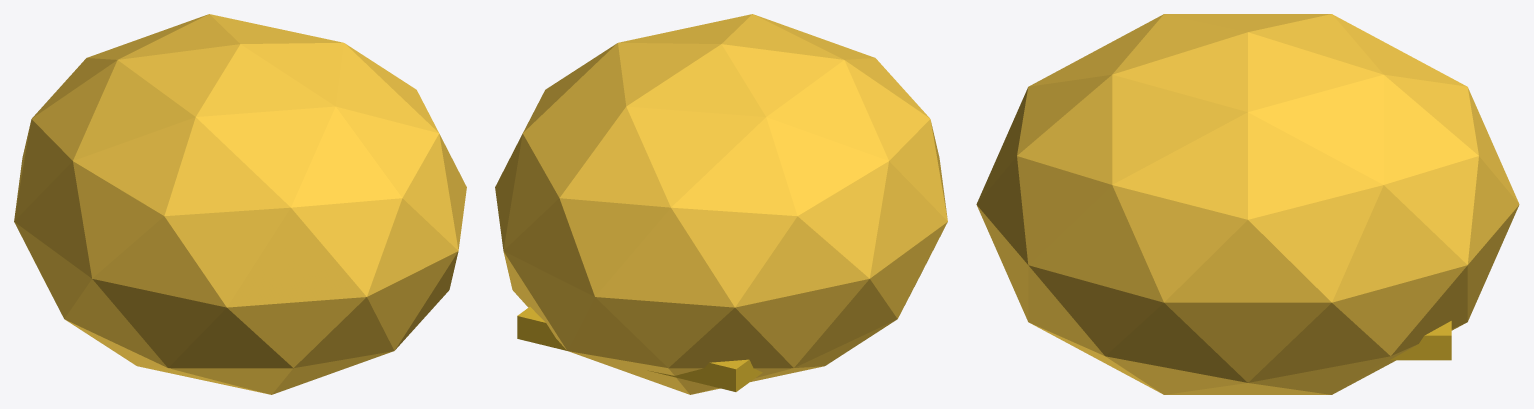
File: RockClimbing_Helmet.fbx
3 views of the same model, side by side, from view 1: azimuth 30°, elevation 25°; view 2: azimuth 150°, elevation 25°; view 3: azimuth 270°, elevation 25° (orthographic). The views are drawn at different scales.
Visible parts, largest first — view 1: Helmet; view 2: Helmet; view 3: Helmet.
Boxes of the visible parts, x1,y1,x2,y2 form: Helmet: [14, 14, 466, 394]; Helmet: [495, 14, 947, 394]; Helmet: [976, 14, 1519, 394].
Size of the model in its own units: 0.3424 by 0.28 by 0.4.
